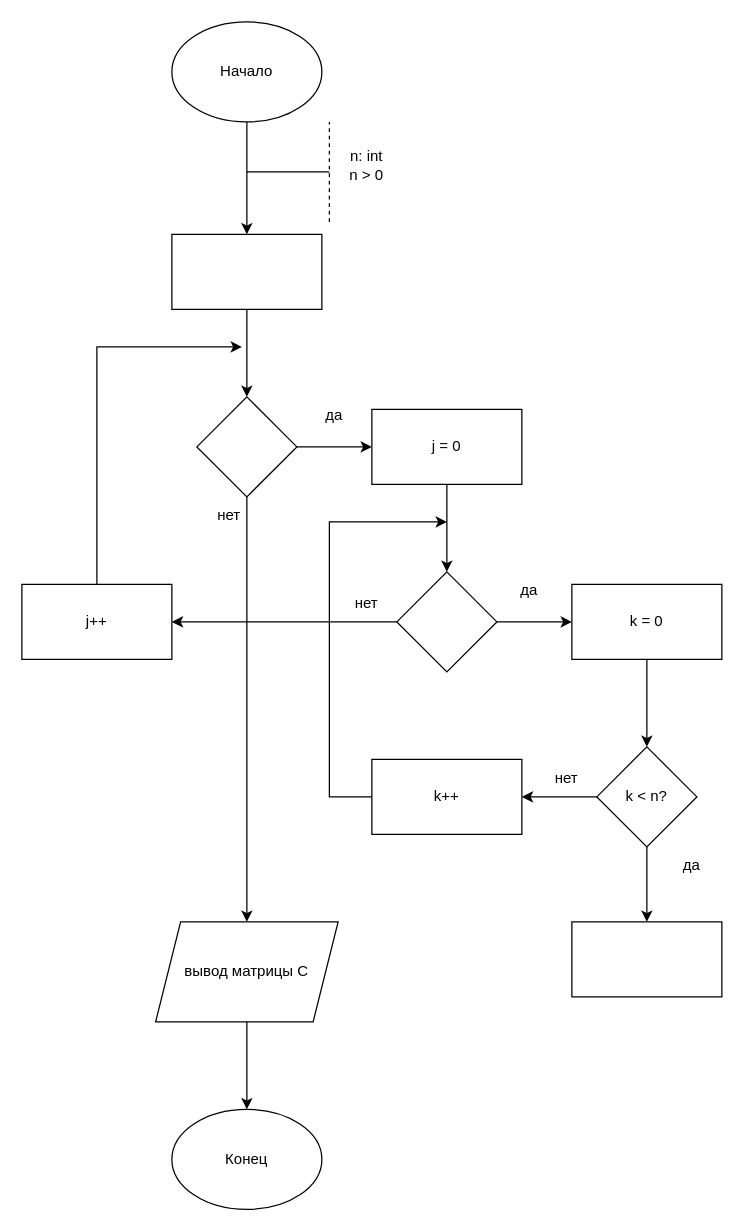
Some shapes in this 751 by 1231 pixel diagram are drawn without their labels. The shapes that lost their labels are listed below. From the top down, each one's centre as x and y in pixels, then its label:
the point at 246,271: i = 0
the point at 246,446: i < n?
the point at 446,621: j < n?
the point at 646,959: C[i][j] = A[i][k] * B[k][j]
